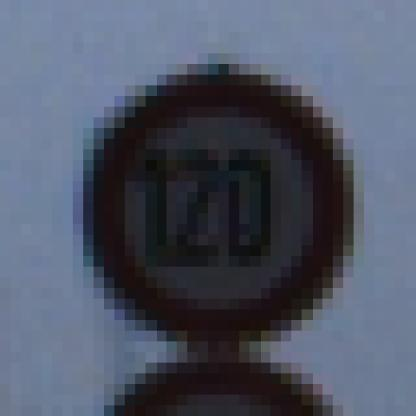Speed Limit -120-: (63, 71, 312, 323)
